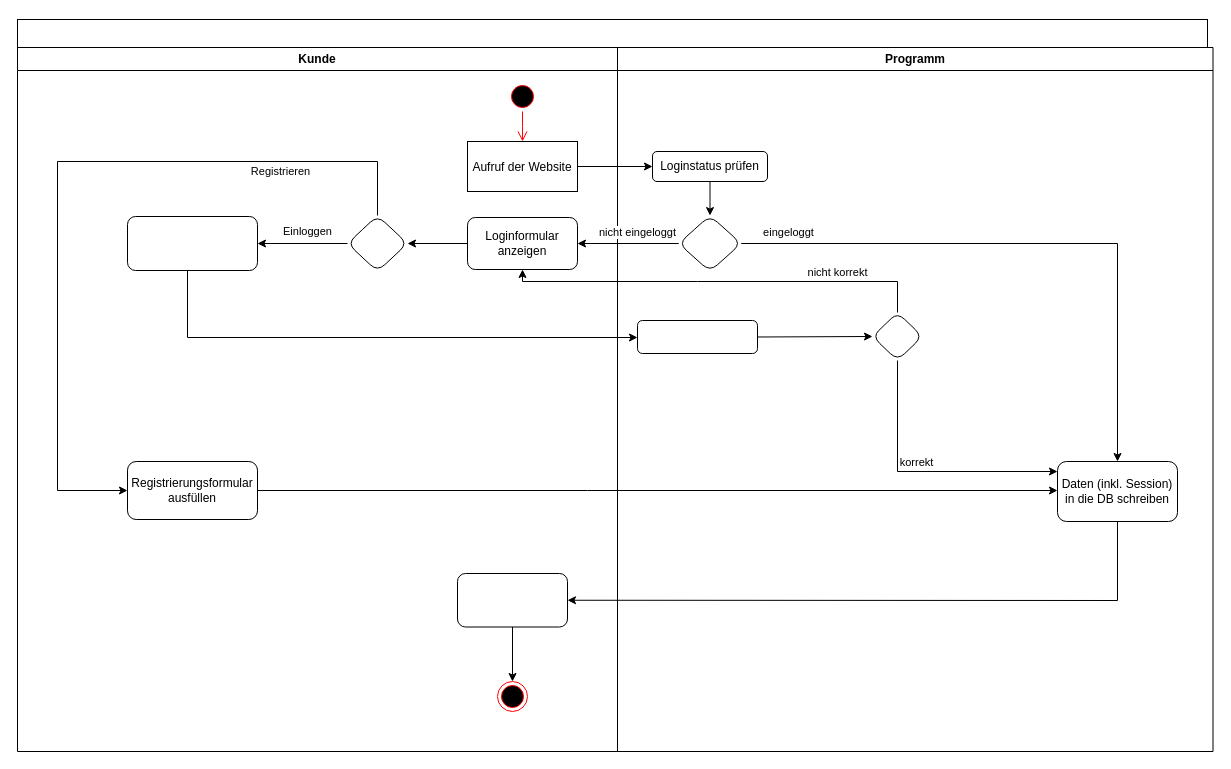
The diagram is 1231 pixels wide and 769 high, and some of its shapes have lost their labels. Here are the shapes that lost their labels. From the top down, the centre of each, then its label:
point (612, 33): Prozess: Login
point (192, 243): Loginformular ausfüllen
point (697, 337): Logindaten prüfen
point (512, 599): Anzeigen der Shopseite
